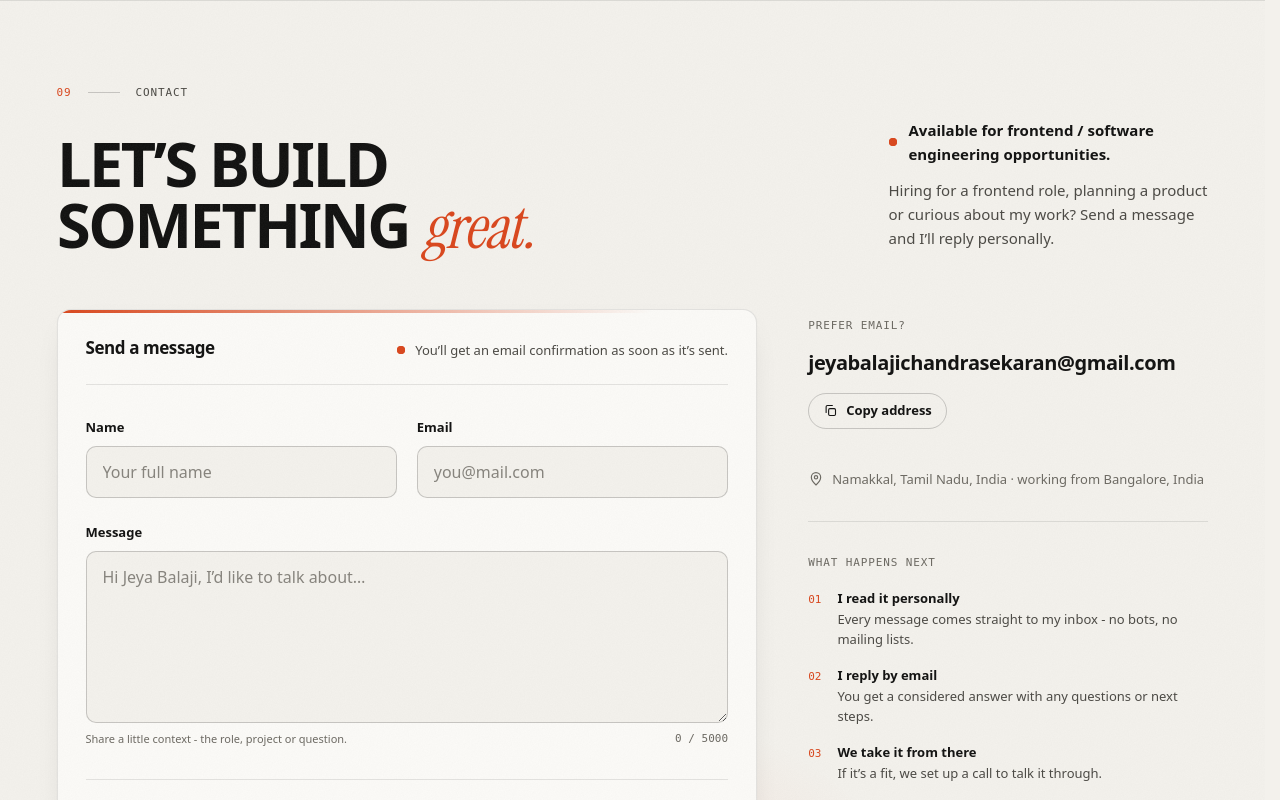
Test case: Contact › explains when copying is not possible
The width and height of the screenshot is (1280, 800).
Step 1. Click the button "Copy address" → [878, 411], box [808, 393, 947, 429]
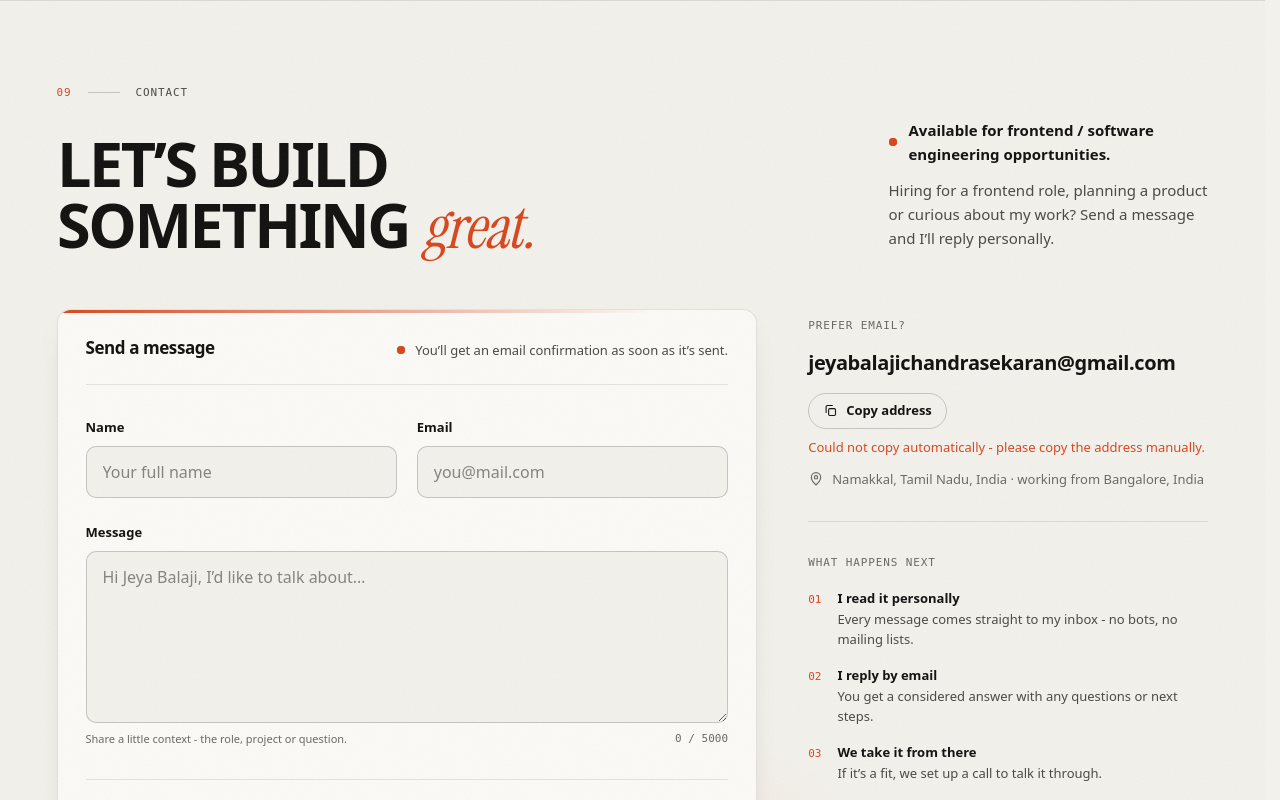
Expected: the message shows "copy the address manually", [808, 438, 1205, 456]
